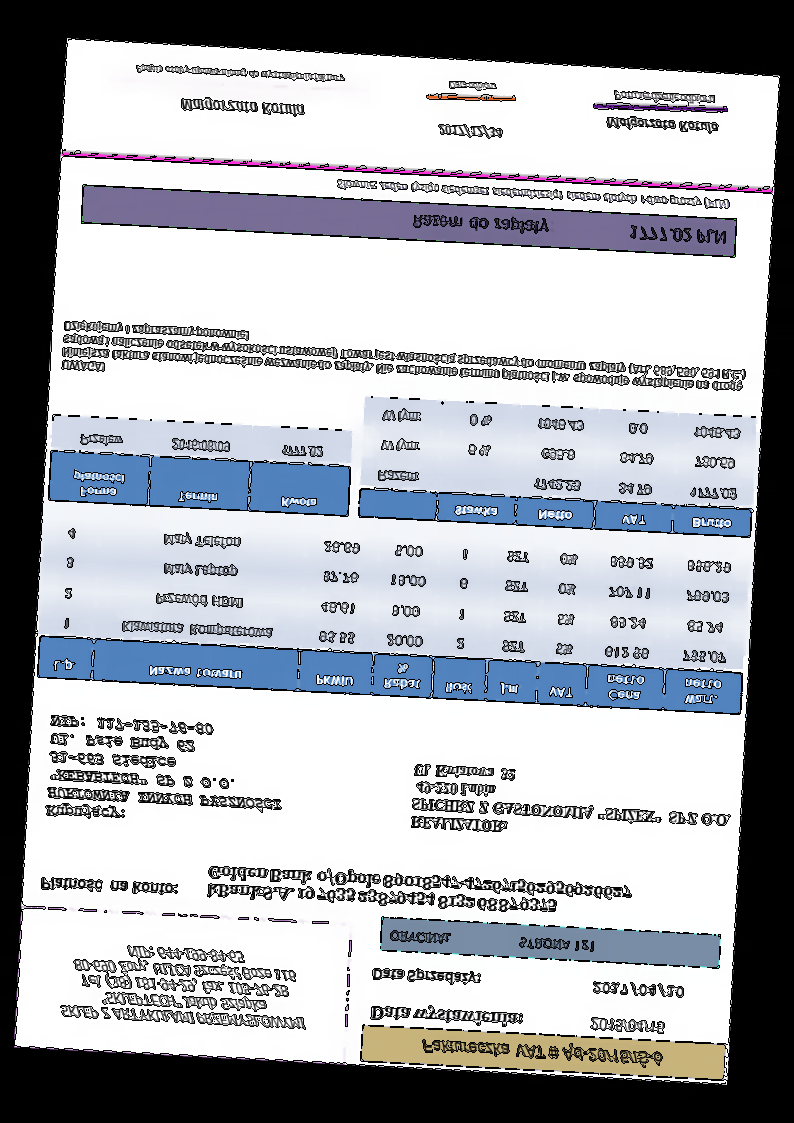Table: (35, 511, 751, 718), (354, 393, 758, 540), (47, 414, 354, 518)
TextBox: (58, 316, 750, 411), (40, 712, 288, 834), (406, 760, 736, 849), (203, 861, 635, 924), (55, 935, 313, 1039), (333, 176, 736, 214), (408, 210, 728, 252), (417, 1036, 669, 1072), (387, 925, 598, 957), (130, 60, 349, 87), (367, 1002, 528, 1034), (34, 871, 183, 900), (177, 94, 309, 125), (367, 962, 487, 991), (600, 113, 724, 139), (589, 977, 689, 1004), (585, 1012, 667, 1041), (608, 86, 719, 107), (434, 121, 505, 142), (444, 75, 500, 95)
